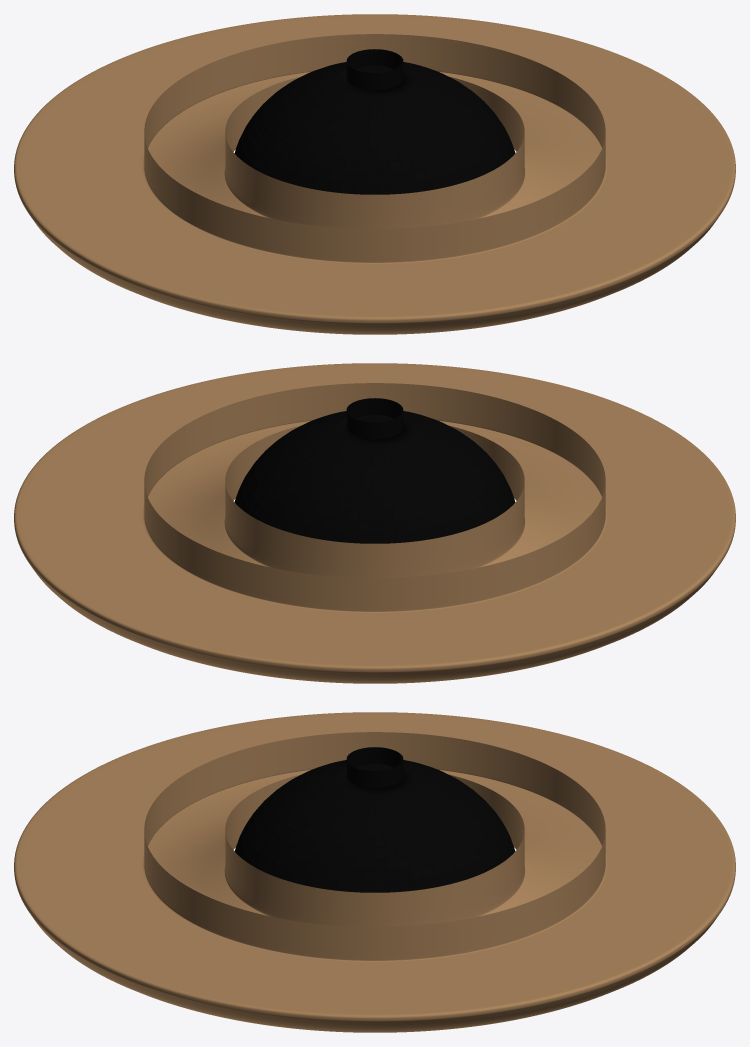
The model's file is Spot_Gold.fbx.
3 renders of one model, top to bottom at view 1: azimuth 30°, elevation 25°; view 2: azimuth 150°, elevation 25°; view 3: azimuth 270°, elevation 25°, orthographic.
Parts seen in each view (by area): view 1: Spot_Gold; view 2: Spot_Gold; view 3: Spot_Gold.
Boxes of the visible parts, x1,y1,x2,y2 form: Spot_Gold: (14, 14, 735, 334); Spot_Gold: (14, 363, 735, 683); Spot_Gold: (14, 712, 735, 1032).
Bounding box in the file's own units: 98.22 × 20.77 × 98.22.
